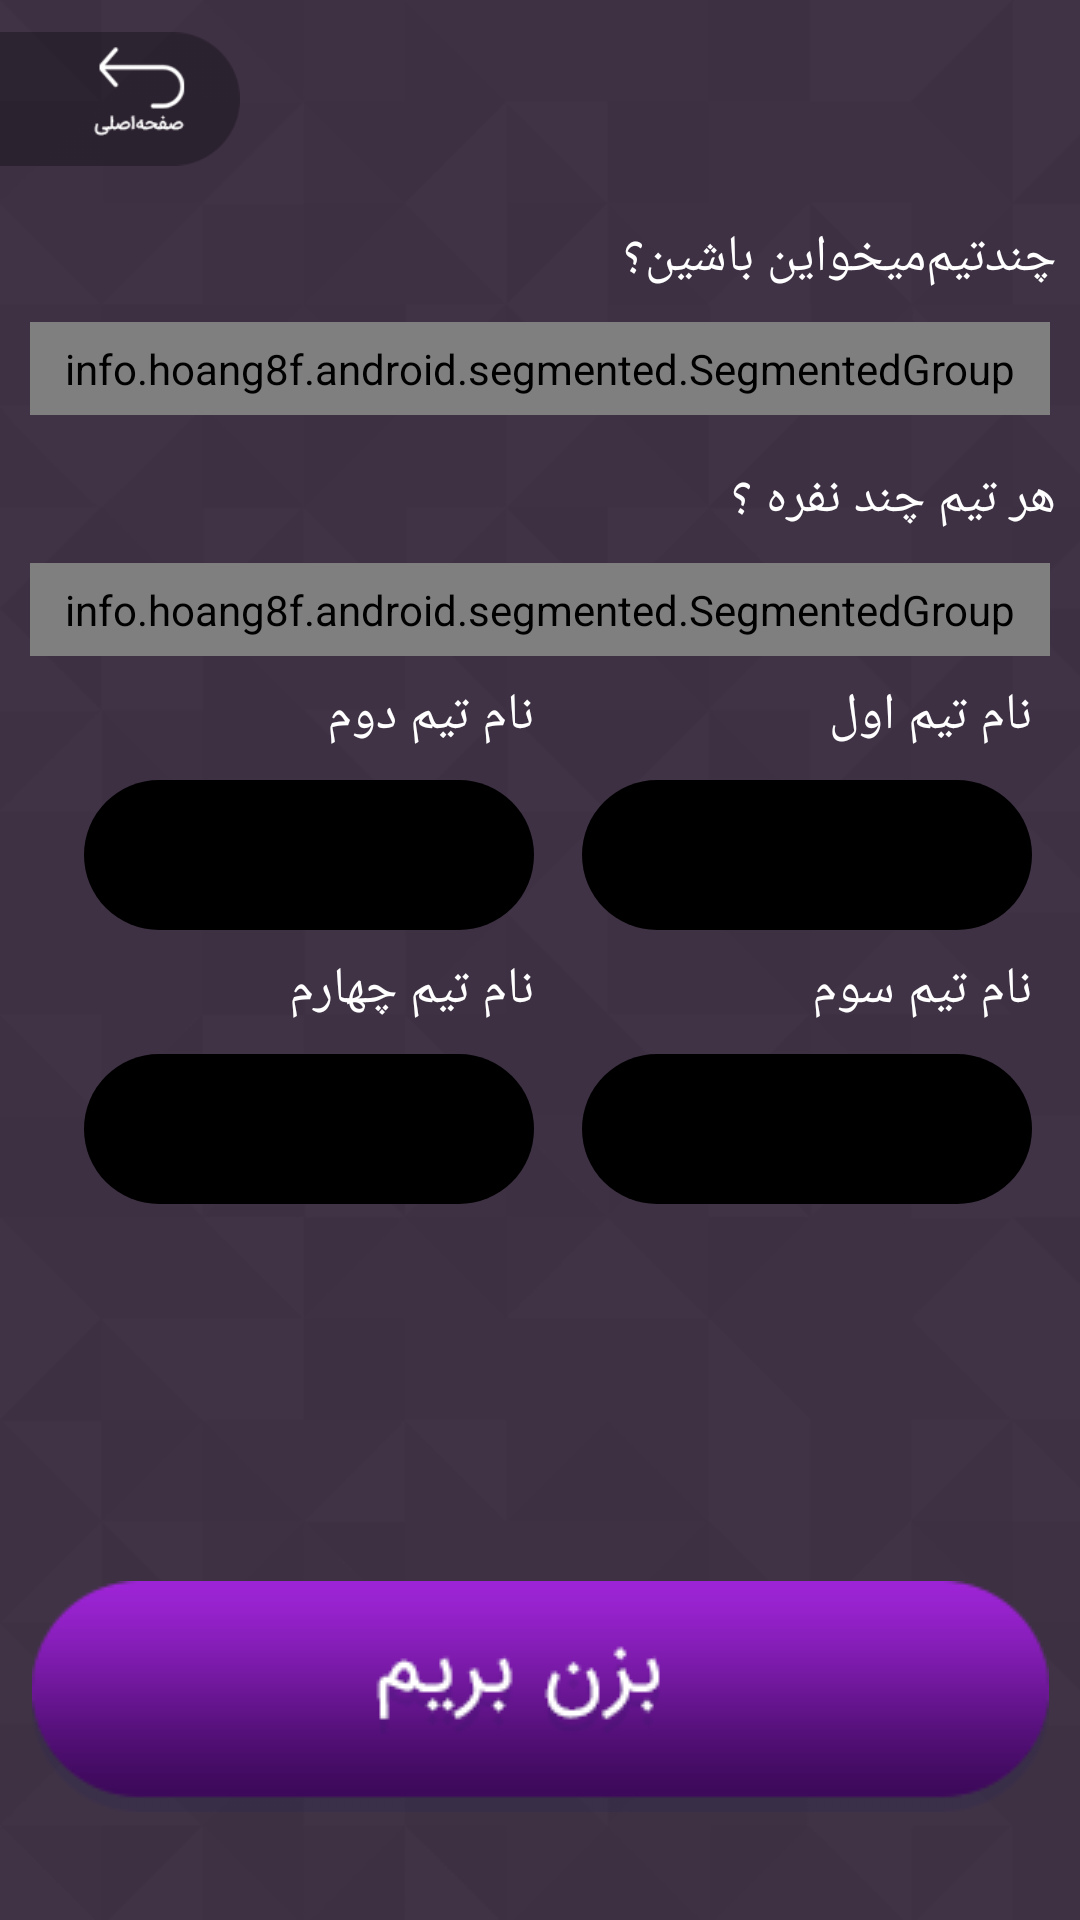

Named icons in this screenshot (1080×1920) and their centers, point (x, y):
backtoback: point (120, 99)
